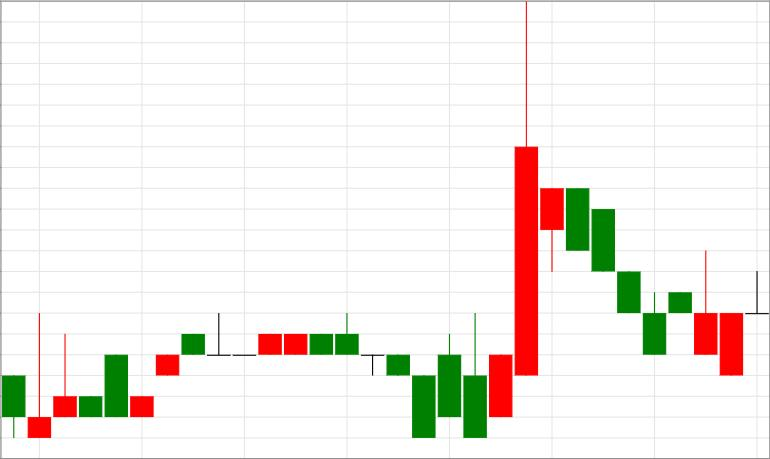inverse_hammer_rise: (566, 188, 717, 355)
